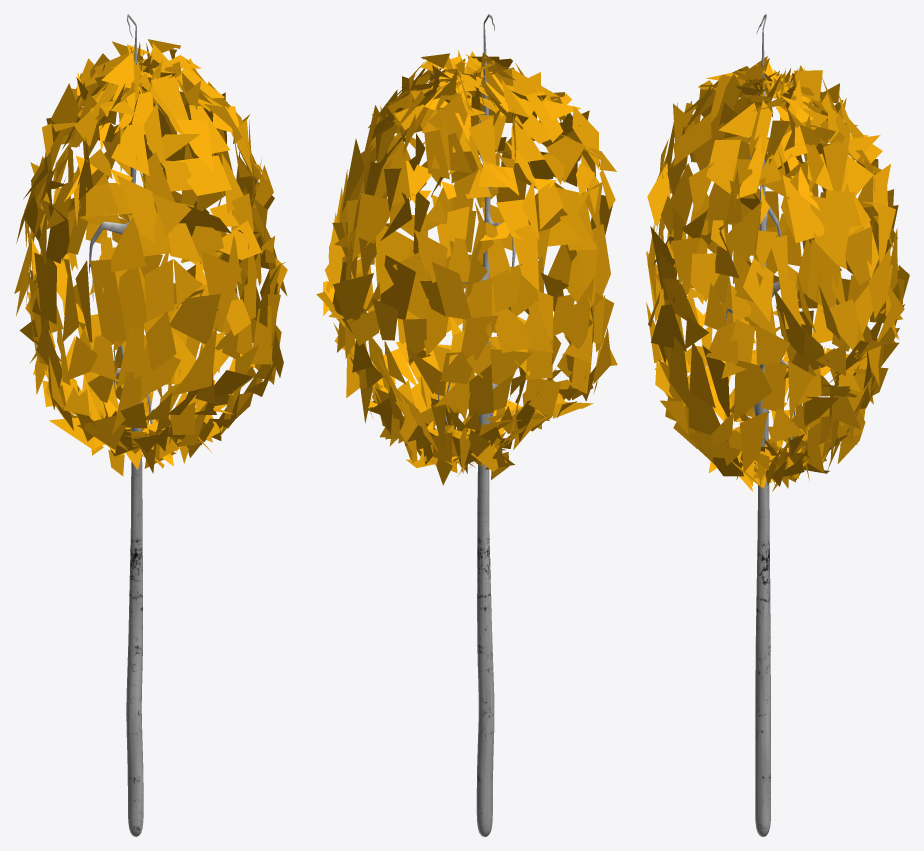
File: Leaves23.001.fbx
3 views of the same model, side by side, from view 1: azimuth 30°, elevation 25°; view 2: azimuth 150°, elevation 25°; view 3: azimuth 270°, elevation 25° (orthographic).
Parts seen in each view (by area): view 1: Leaves23.001; view 2: Leaves23.001; view 3: Leaves23.001.
Part boxes in pixels (bbox=[...]): Leaves23.001: bbox=[14, 14, 287, 836]; Leaves23.001: bbox=[316, 14, 617, 836]; Leaves23.001: bbox=[646, 14, 909, 836].
Size of the model in its own units: 816 by 2612 by 762.
2 materials, 1 textured.
